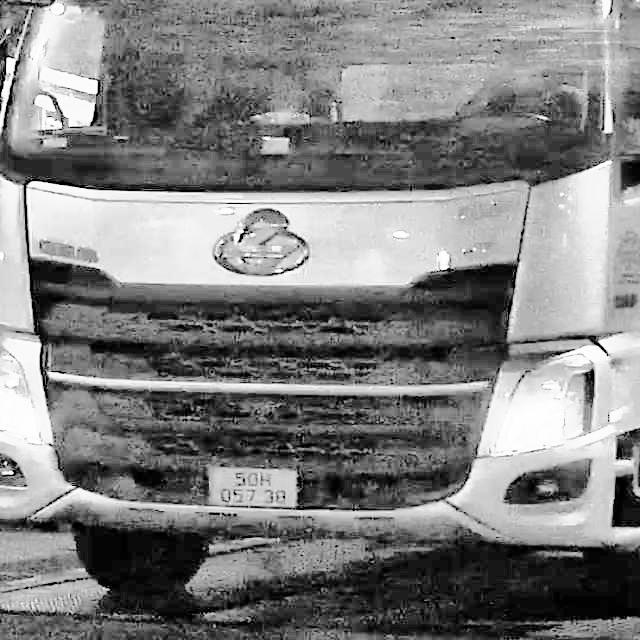Truck: (0, 0, 639, 601)
